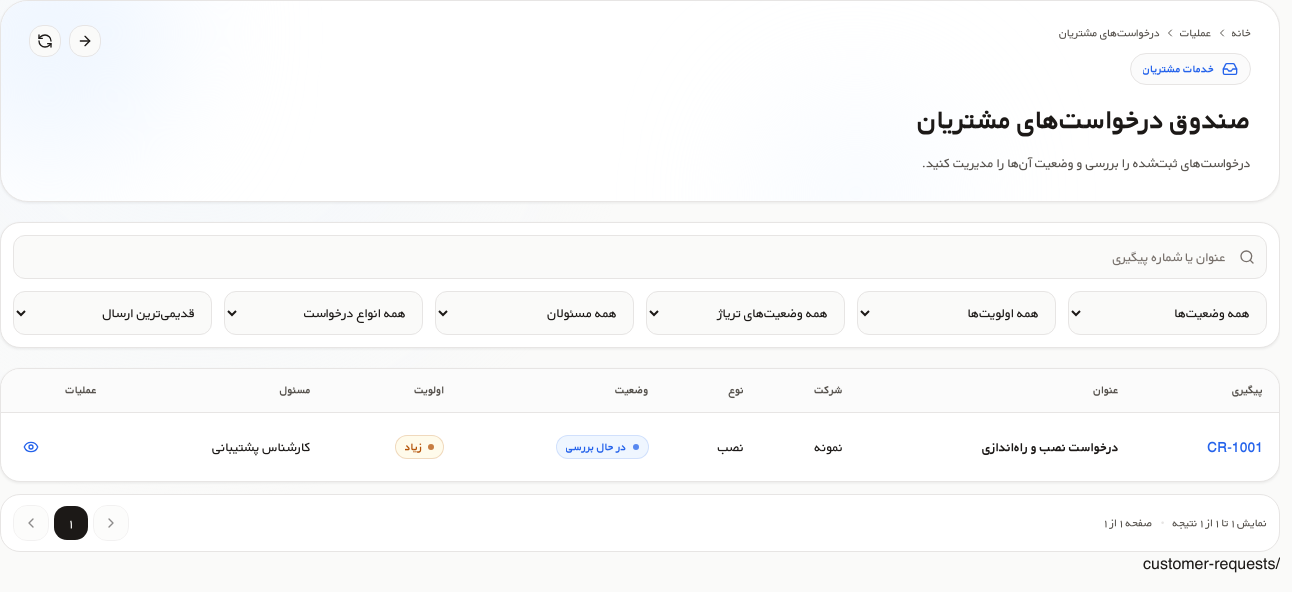
CustomerRequestsInboxPage › renders semantic statuses and only the permitted view row action
Step 1. Click the button named "مشاهده درخواست درخواست نصب و راه‌اندازی" → (31, 447), box [17,433,45,461]
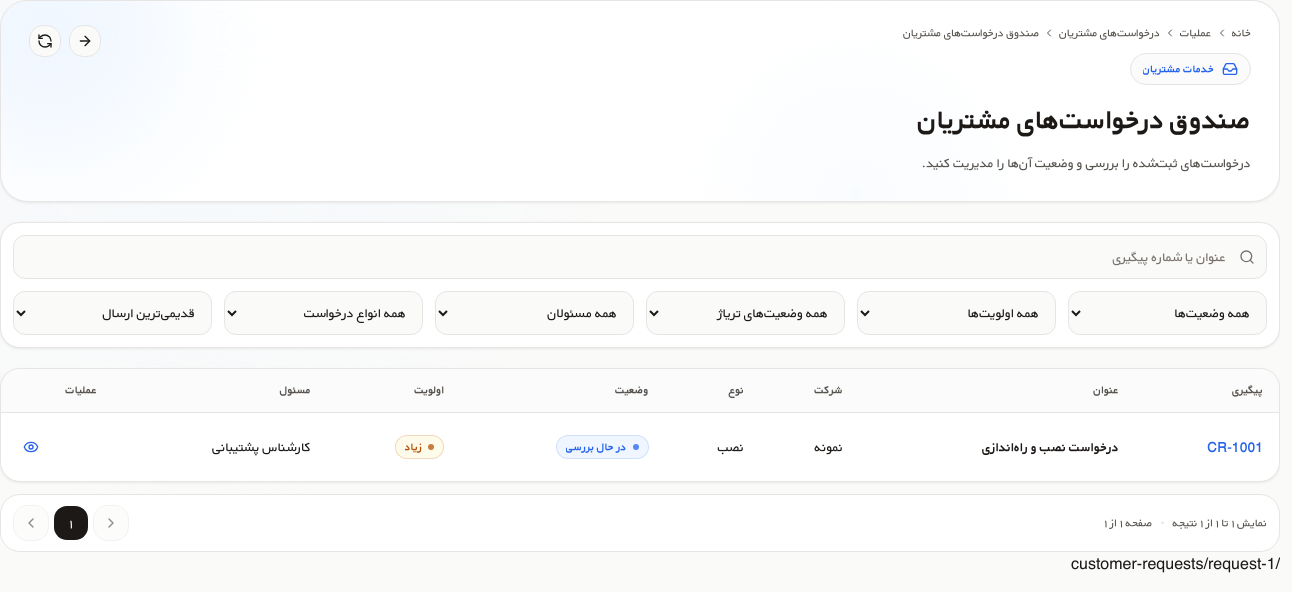
Expected: the text with test id "location" reads "/customer-requests/request-1", [1071,552,1280,575]
